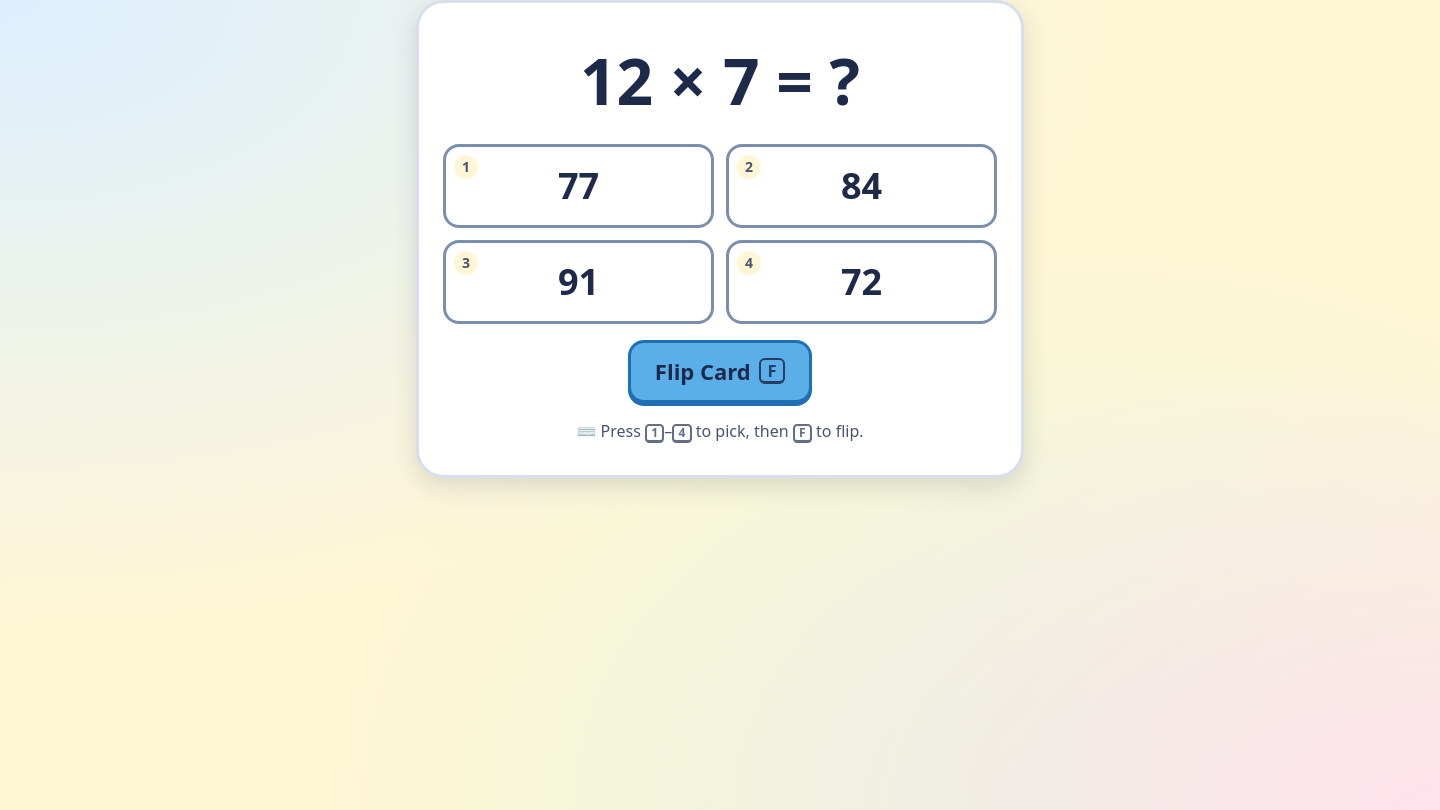
Scenario: How to solve it › is on the back of the card and opens to show the steps
Type keys "1f"
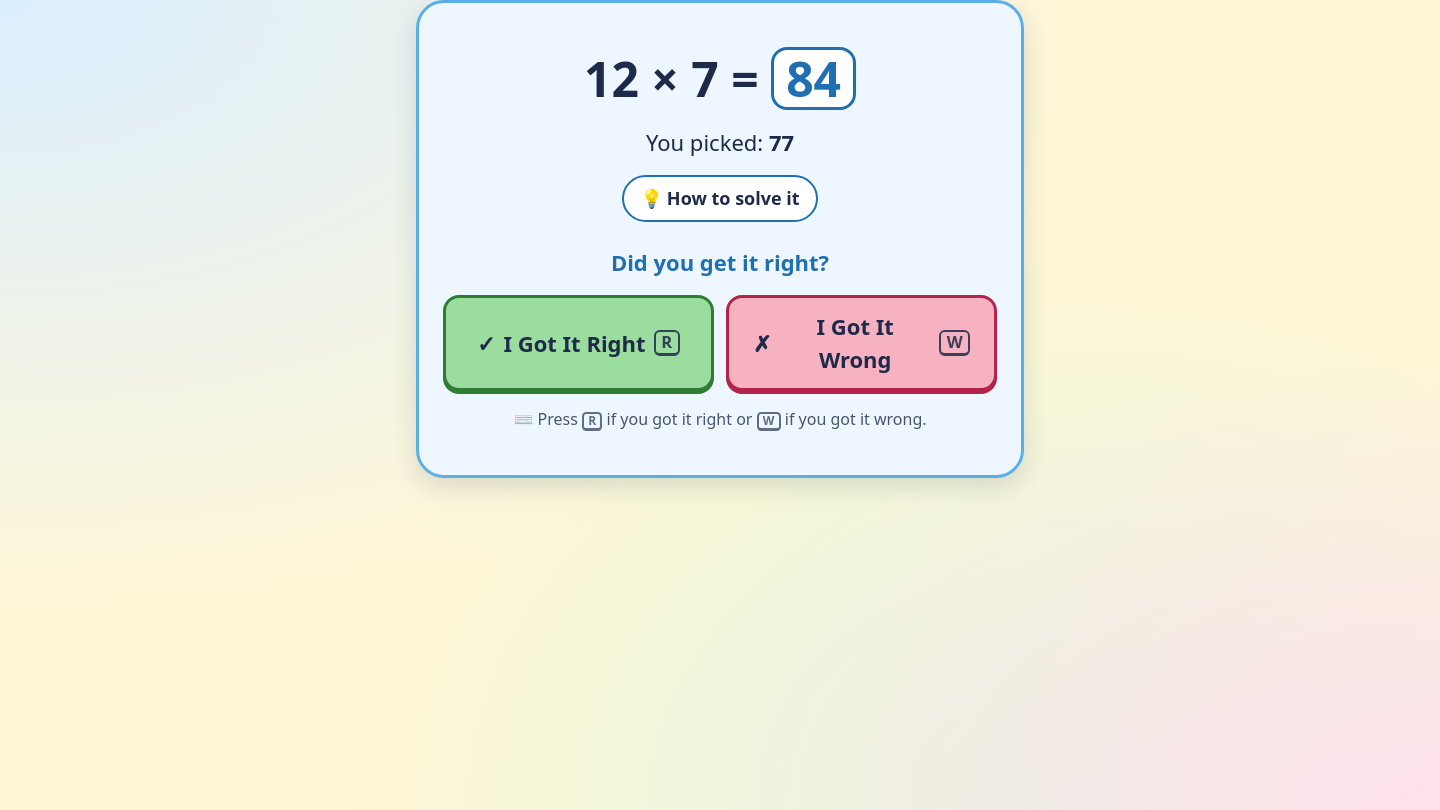
Click the button "💡 How to solve it".
click(720, 199)  # box [622,175,818,222]
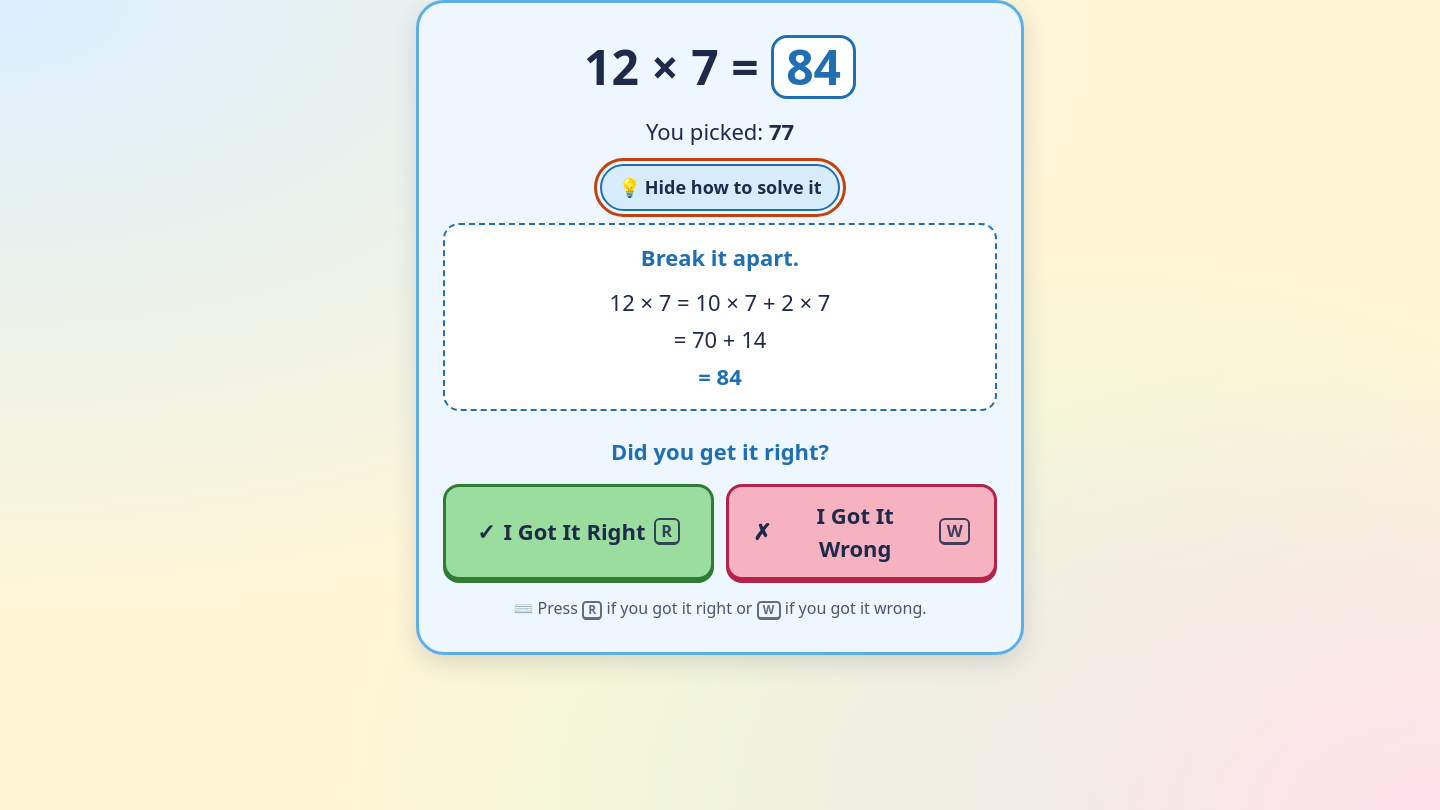
Expected: the button "💡 Hide how to solve it" is expanded, [600,164,840,211]
Expected: the text "Break it apart." is shown, [641,242,799,272]
Expected: the list items read "12 × 7 = 10 × 7 + 2 × 7", "= 70 + 14", "= 84", in this order, [610,287,830,317]; [674,324,766,354]; [698,361,742,391]
